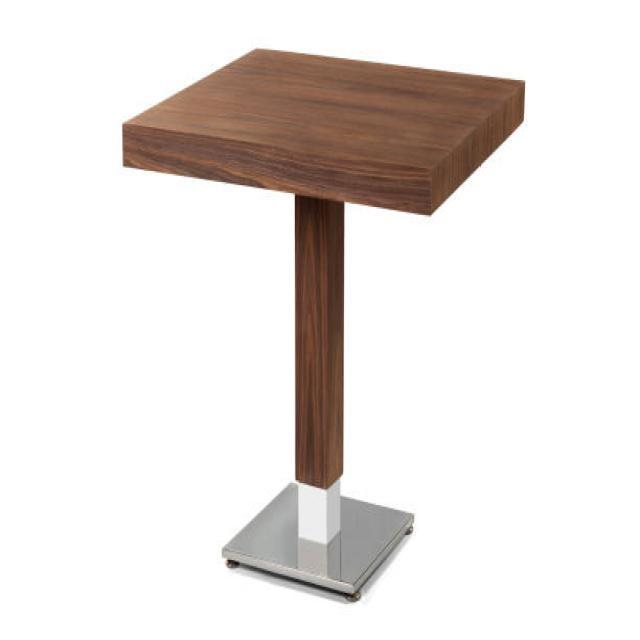table: (120, 44, 525, 601)
